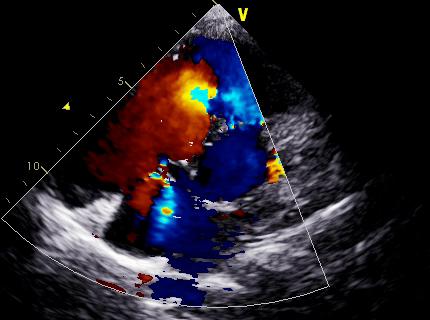TR: (123, 154, 197, 235)
